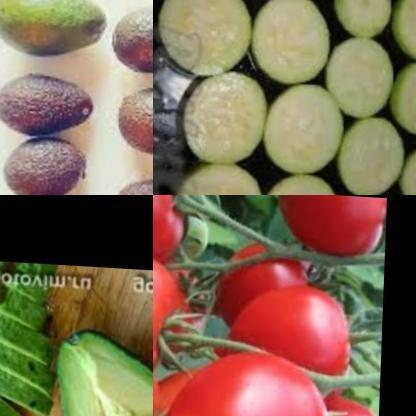avocado: (47, 309, 153, 416), (0, 261, 52, 416), (0, 0, 109, 61), (0, 127, 95, 195), (0, 71, 94, 138), (112, 0, 153, 83), (112, 84, 153, 162)
tomato: (219, 278, 360, 384), (158, 350, 345, 416), (207, 244, 316, 326), (270, 195, 386, 258), (153, 252, 207, 387), (304, 382, 381, 416), (153, 195, 190, 263), (153, 359, 174, 416)
vegetable marrow: (185, 65, 282, 172), (257, 78, 356, 179), (153, 0, 273, 81), (251, 0, 350, 83), (327, 111, 416, 195), (324, 36, 406, 121), (175, 161, 285, 195), (376, 50, 416, 139), (247, 163, 350, 195), (387, 0, 416, 78), (327, 0, 402, 30), (401, 134, 416, 195)
